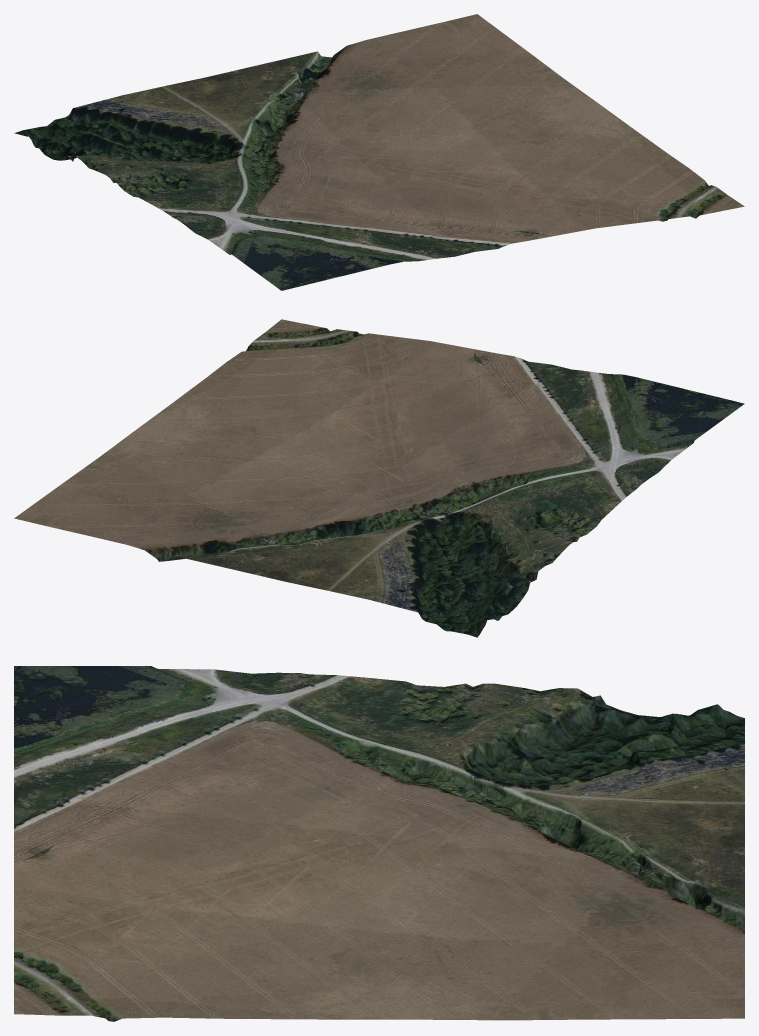
File: map_13_2047_3443.dae
3 views of the same model, one above another, from view 1: azimuth 30°, elevation 25°; view 2: azimuth 150°, elevation 25°; view 3: azimuth 270°, elevation 25° (orthographic). The views are drawn at different scales.
Visible parts, largest first — view 1: Ter0; view 2: Ter0; view 3: Ter0.
Boxes of the visible parts, <box> form: Ter0: <box>14,14,744,290</box>; Ter0: <box>14,319,744,637</box>; Ter0: <box>14,666,744,1021</box>.
Bounding box in the file's own units: 256 × 256 × 22.91.
Materials: 3 (3 with a texture image).
